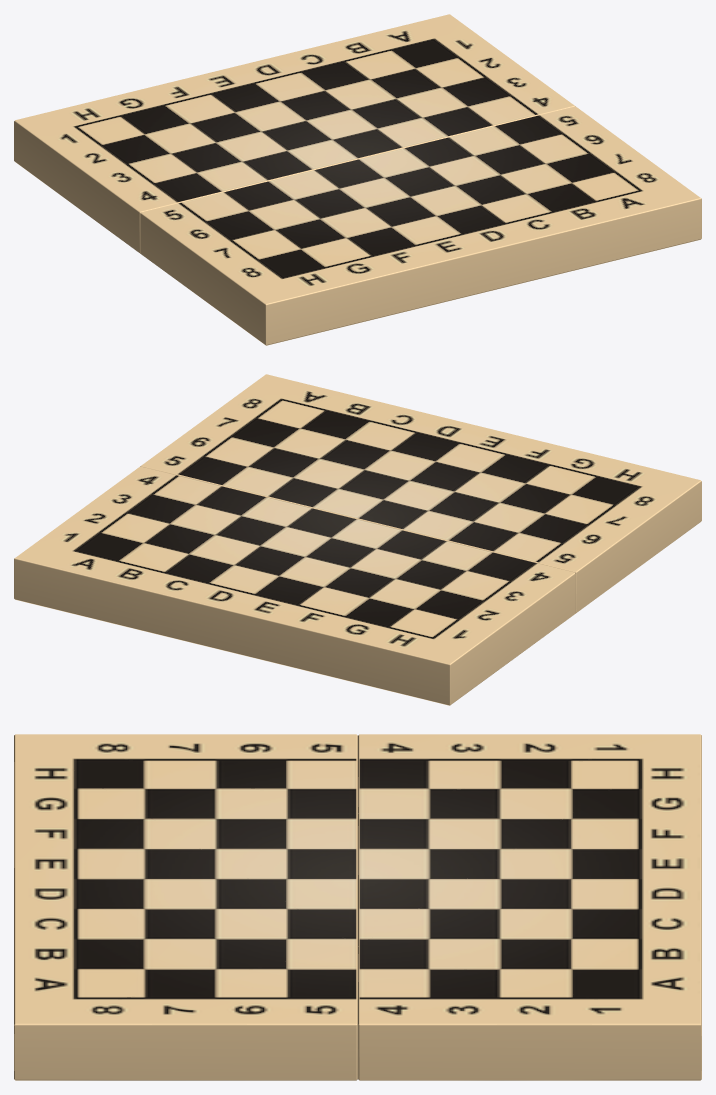
File: chessboard.glb
3 views of the same model, one above another, from view 1: azimuth 30°, elevation 25°; view 2: azimuth 150°, elevation 25°; view 3: azimuth 270°, elevation 25° (orthographic). The views are drawn at different scales.
Parts seen in each view (by area): view 1: Chesspad_02, Chesspad_01; view 2: Chesspad_01, Chesspad_02; view 3: Chesspad_02, Chesspad_01.
Boxes of the visible parts, x1,y1,x2,y2 form: Chesspad_02: (140, 106, 701, 345); Chesspad_01: (14, 14, 575, 253); Chesspad_01: (14, 466, 575, 705); Chesspad_02: (140, 374, 701, 613); Chesspad_02: (14, 734, 357, 1080); Chesspad_01: (358, 734, 701, 1080).
Bounding box in the file's own units: 0.4813 × 0.0456 × 0.4813.
2 materials, 2 textured.
